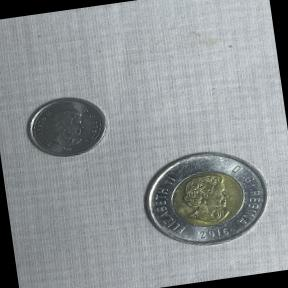coin: (132, 135, 280, 260), (18, 85, 114, 166)
